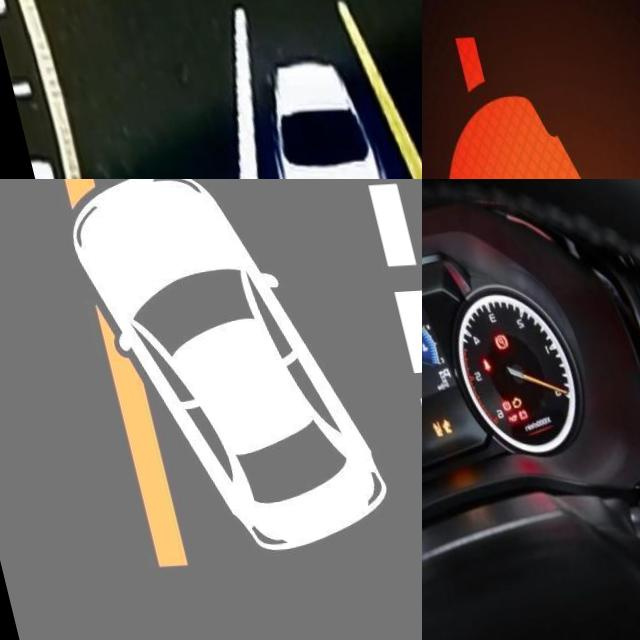Seat Belt: (468, 363, 479, 377)
